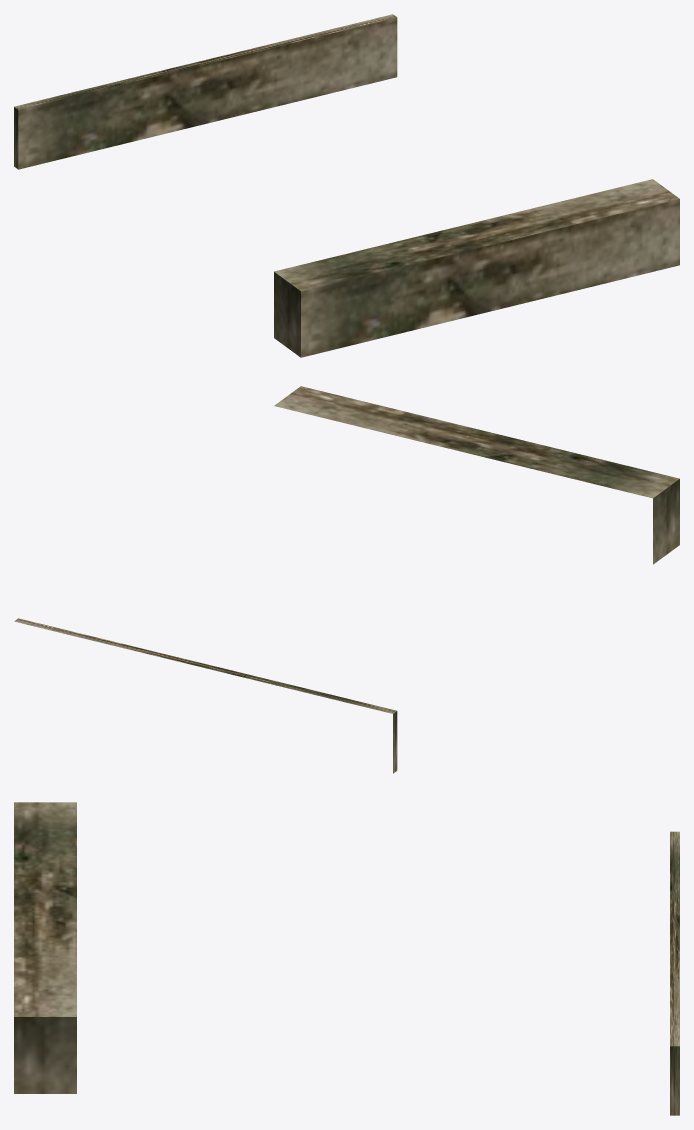
File: HouseWall03.glb
3 renders of one model, top to bottom at view 1: azimuth 30°, elevation 25°; view 2: azimuth 150°, elevation 25°; view 3: azimuth 270°, elevation 25°, orthographic. The views are drawn at different scales.
Parts seen in each view (by area): view 1: model_HouseWall03; view 2: model_HouseWall03; view 3: model_HouseWall03.
Boxes of the visible parts, x1,y1,x2,y2 form: model_HouseWall03: [14, 14, 679, 357]; model_HouseWall03: [14, 386, 679, 773]; model_HouseWall03: [14, 802, 679, 1115].
Bounding box in the file's own units: 2.02 × 0.4339 × 2.65.
1 material, 1 textured.
